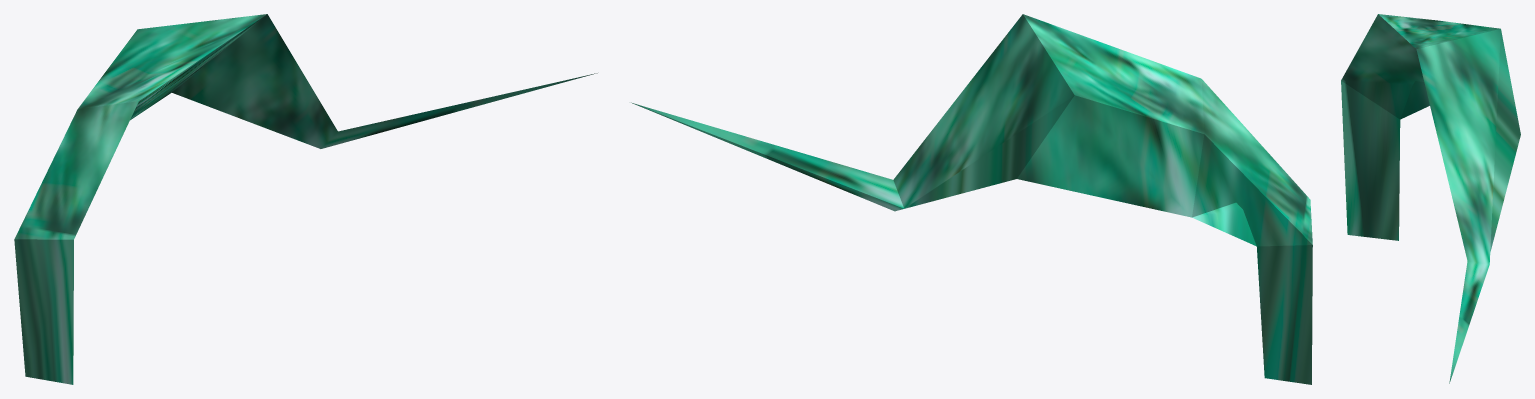
Rendered from H1_BluePlant_Branch_14.gltf.
3 renders of one model, left to right at view 1: azimuth 30°, elevation 25°; view 2: azimuth 150°, elevation 25°; view 3: azimuth 270°, elevation 25°, orthographic. The views are drawn at different scales.
Visible parts, largest first — view 1: H1_BluePlant_Branch_14; view 2: H1_BluePlant_Branch_14; view 3: H1_BluePlant_Branch_14.
Part boxes in pixels (x1=…): H1_BluePlant_Branch_14: x1=14, y1=14, x2=597, y2=384; H1_BluePlant_Branch_14: x1=631, y1=14, x2=1312, y2=384; H1_BluePlant_Branch_14: x1=1341, y1=14, x2=1520, y2=383.
Size of the model in its own units: 5.43 by 2.48 by 1.35.
Materials: 1 (1 with a texture image).
